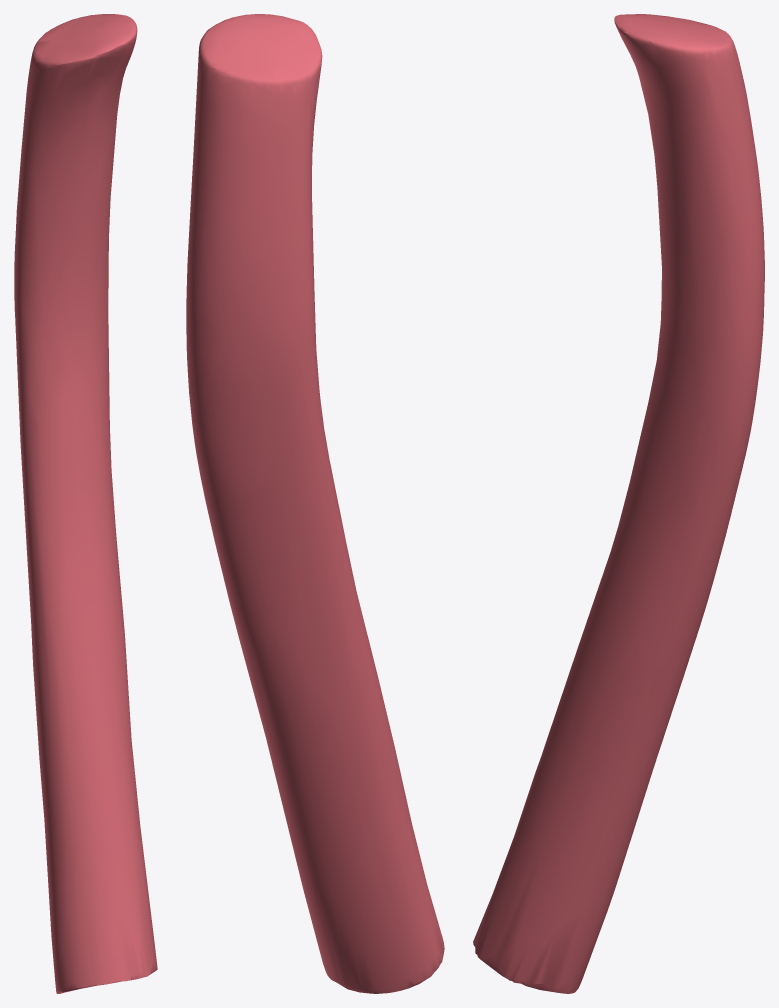
The model's file is fma87217_fj1931.glb.
3 views of the same model, side by side, from view 1: azimuth 30°, elevation 25°; view 2: azimuth 150°, elevation 25°; view 3: azimuth 270°, elevation 25° (orthographic). The views are drawn at different scales.
Parts seen in each view (by area): view 1: FMA87217_FJ1931; view 2: FMA87217_FJ1931; view 3: FMA87217_FJ1931.
Part boxes in pixels (left/top/right/bottom): FMA87217_FJ1931: left=14, top=14, right=157, bottom=993; FMA87217_FJ1931: left=186, top=14, right=444, bottom=993; FMA87217_FJ1931: left=473, top=14, right=764, bottom=993.
Bounding box in the file's own units: 0.0284 × 0.1709 × 0.0457.
